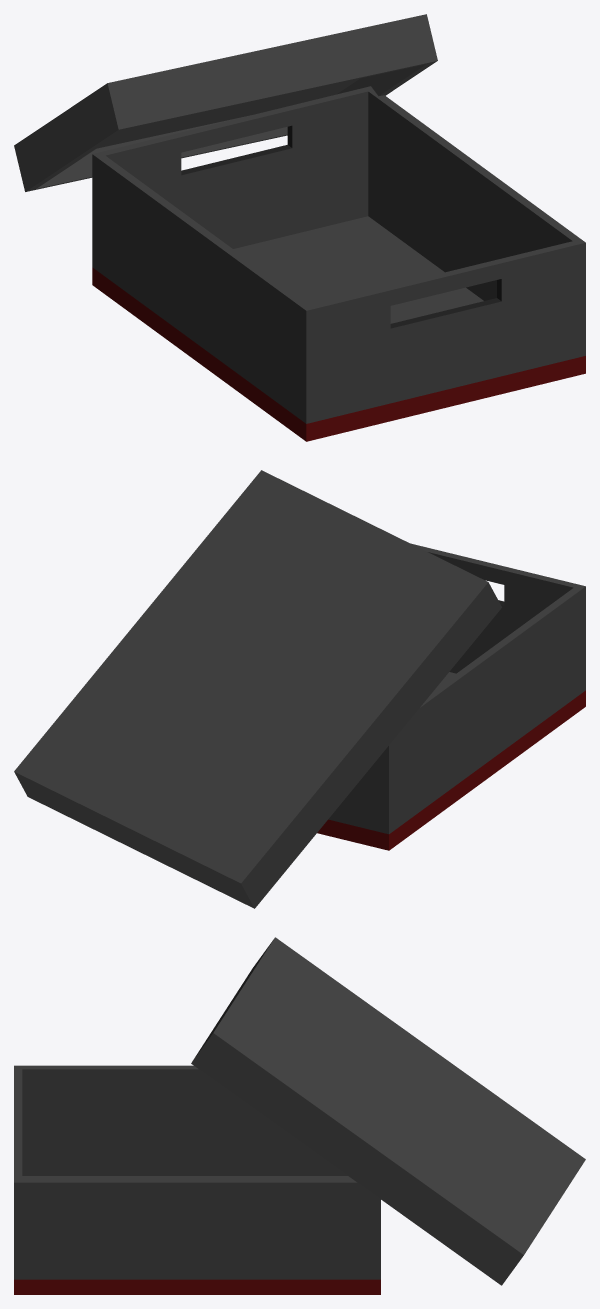
The model's file is BoxOpenV1Black.fbx.
3 renders of one model, top to bottom at view 1: azimuth 30°, elevation 25°; view 2: azimuth 150°, elevation 25°; view 3: azimuth 270°, elevation 25°, orthographic. The views are drawn at different scales.
Parts seen in each view (by area): view 1: BoxOpenV1Black; view 2: BoxOpenV1Black; view 3: BoxOpenV1Black.
Boxes of the visible parts, x1,y1,x2,y2 form: BoxOpenV1Black: (14, 14, 585, 441); BoxOpenV1Black: (14, 470, 585, 908); BoxOpenV1Black: (14, 937, 585, 1294).
Bounding box in the file's own units: 44.7 × 32.62 × 69.31.
